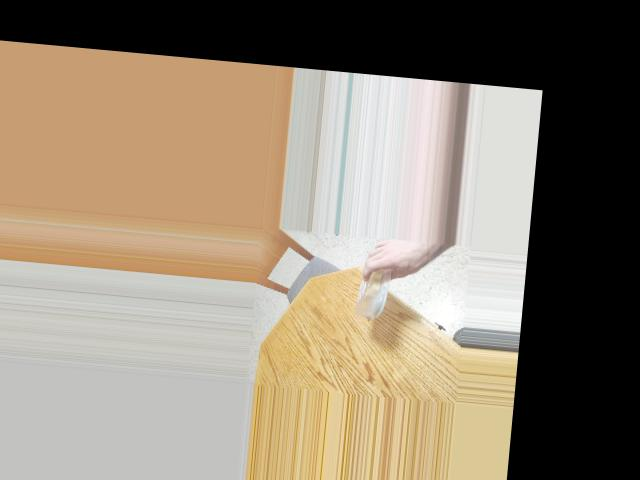cheese: (343, 250, 417, 322)
